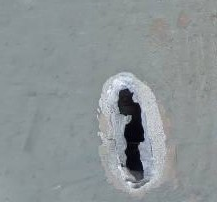Spalling: (96, 71, 166, 196)
